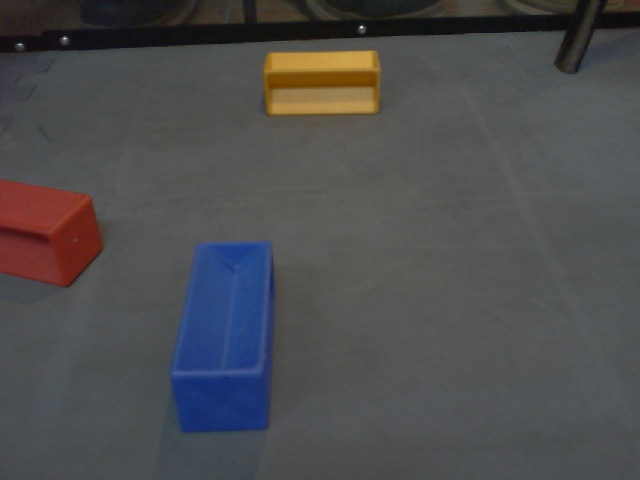BlueSample: (166, 238, 277, 435)
RedSample: (1, 172, 104, 288)
YellowSample: (260, 48, 382, 122)
